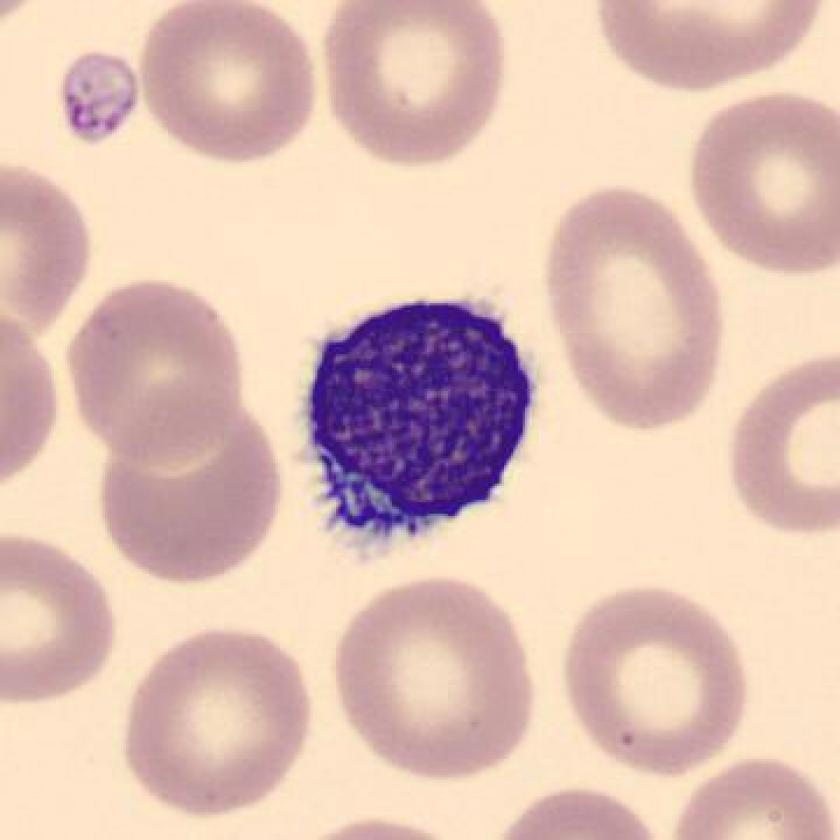lymphocyte: (281, 277, 566, 571)
